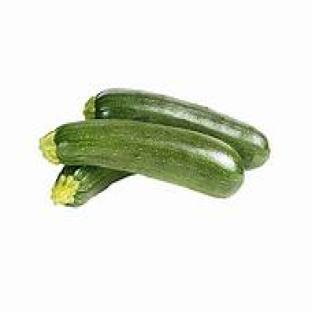Zucchini: (42, 119, 243, 198), (85, 90, 269, 168), (51, 166, 129, 206)
